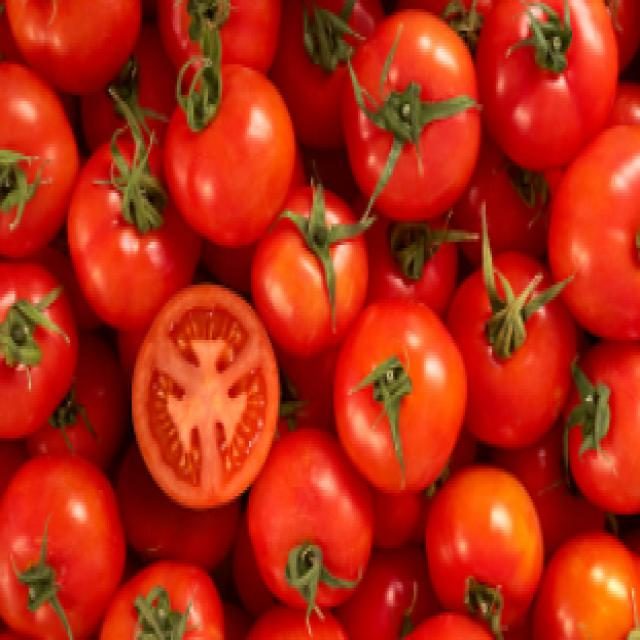Tomato: (135, 280, 286, 508), (456, 250, 584, 451), (338, 303, 469, 491), (72, 116, 203, 298), (344, 32, 474, 214), (0, 459, 134, 627), (476, 0, 614, 158), (169, 67, 289, 242), (245, 440, 368, 600), (0, 244, 98, 431), (434, 450, 536, 622)
